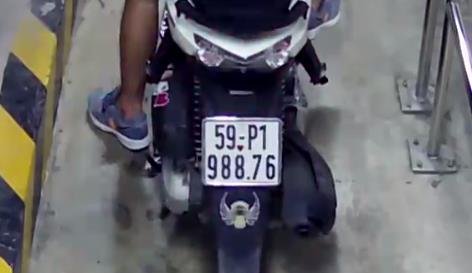lisence: (202, 117, 281, 186)
